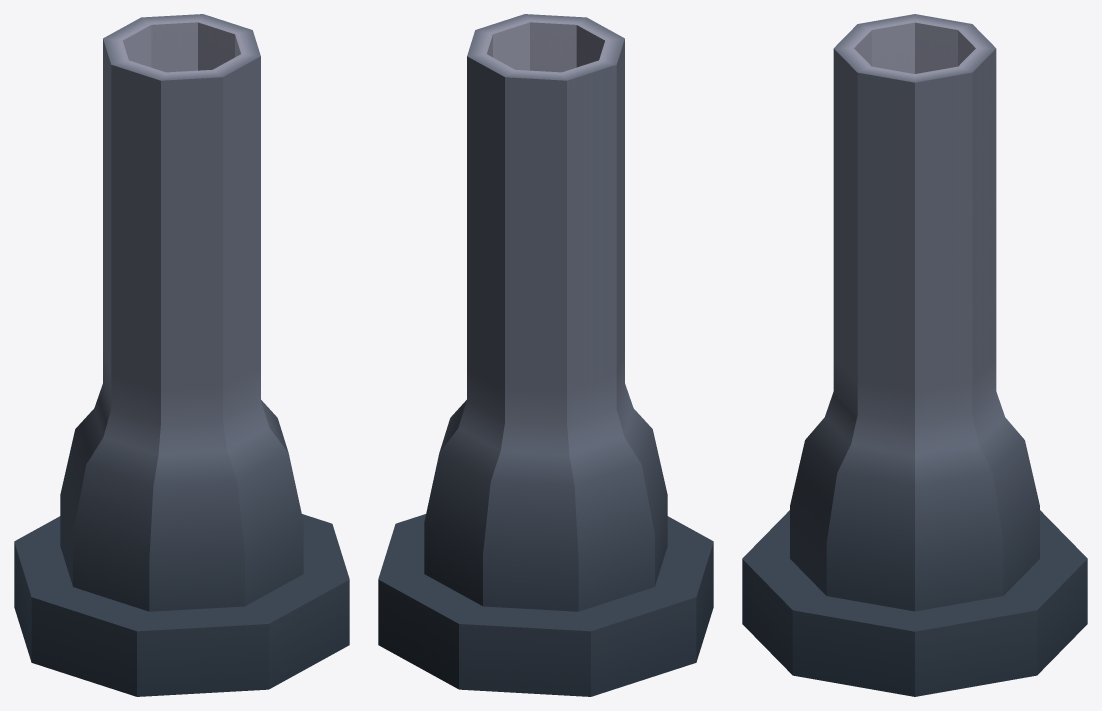
Rendered from R3PIPE.fbx.
3 views of the same model, side by side, from view 1: azimuth 30°, elevation 25°; view 2: azimuth 150°, elevation 25°; view 3: azimuth 270°, elevation 25° (orthographic).
Visible parts, largest first — view 1: pPipe1; view 2: pPipe1; view 3: pPipe1.
Part boxes in pixels (x1,y1,x2,y2): pPipe1: (14, 14, 349, 696); pPipe1: (378, 14, 713, 696); pPipe1: (742, 14, 1087, 696).
Bounding box in the file's own units: 63.03 × 116 × 63.03.
